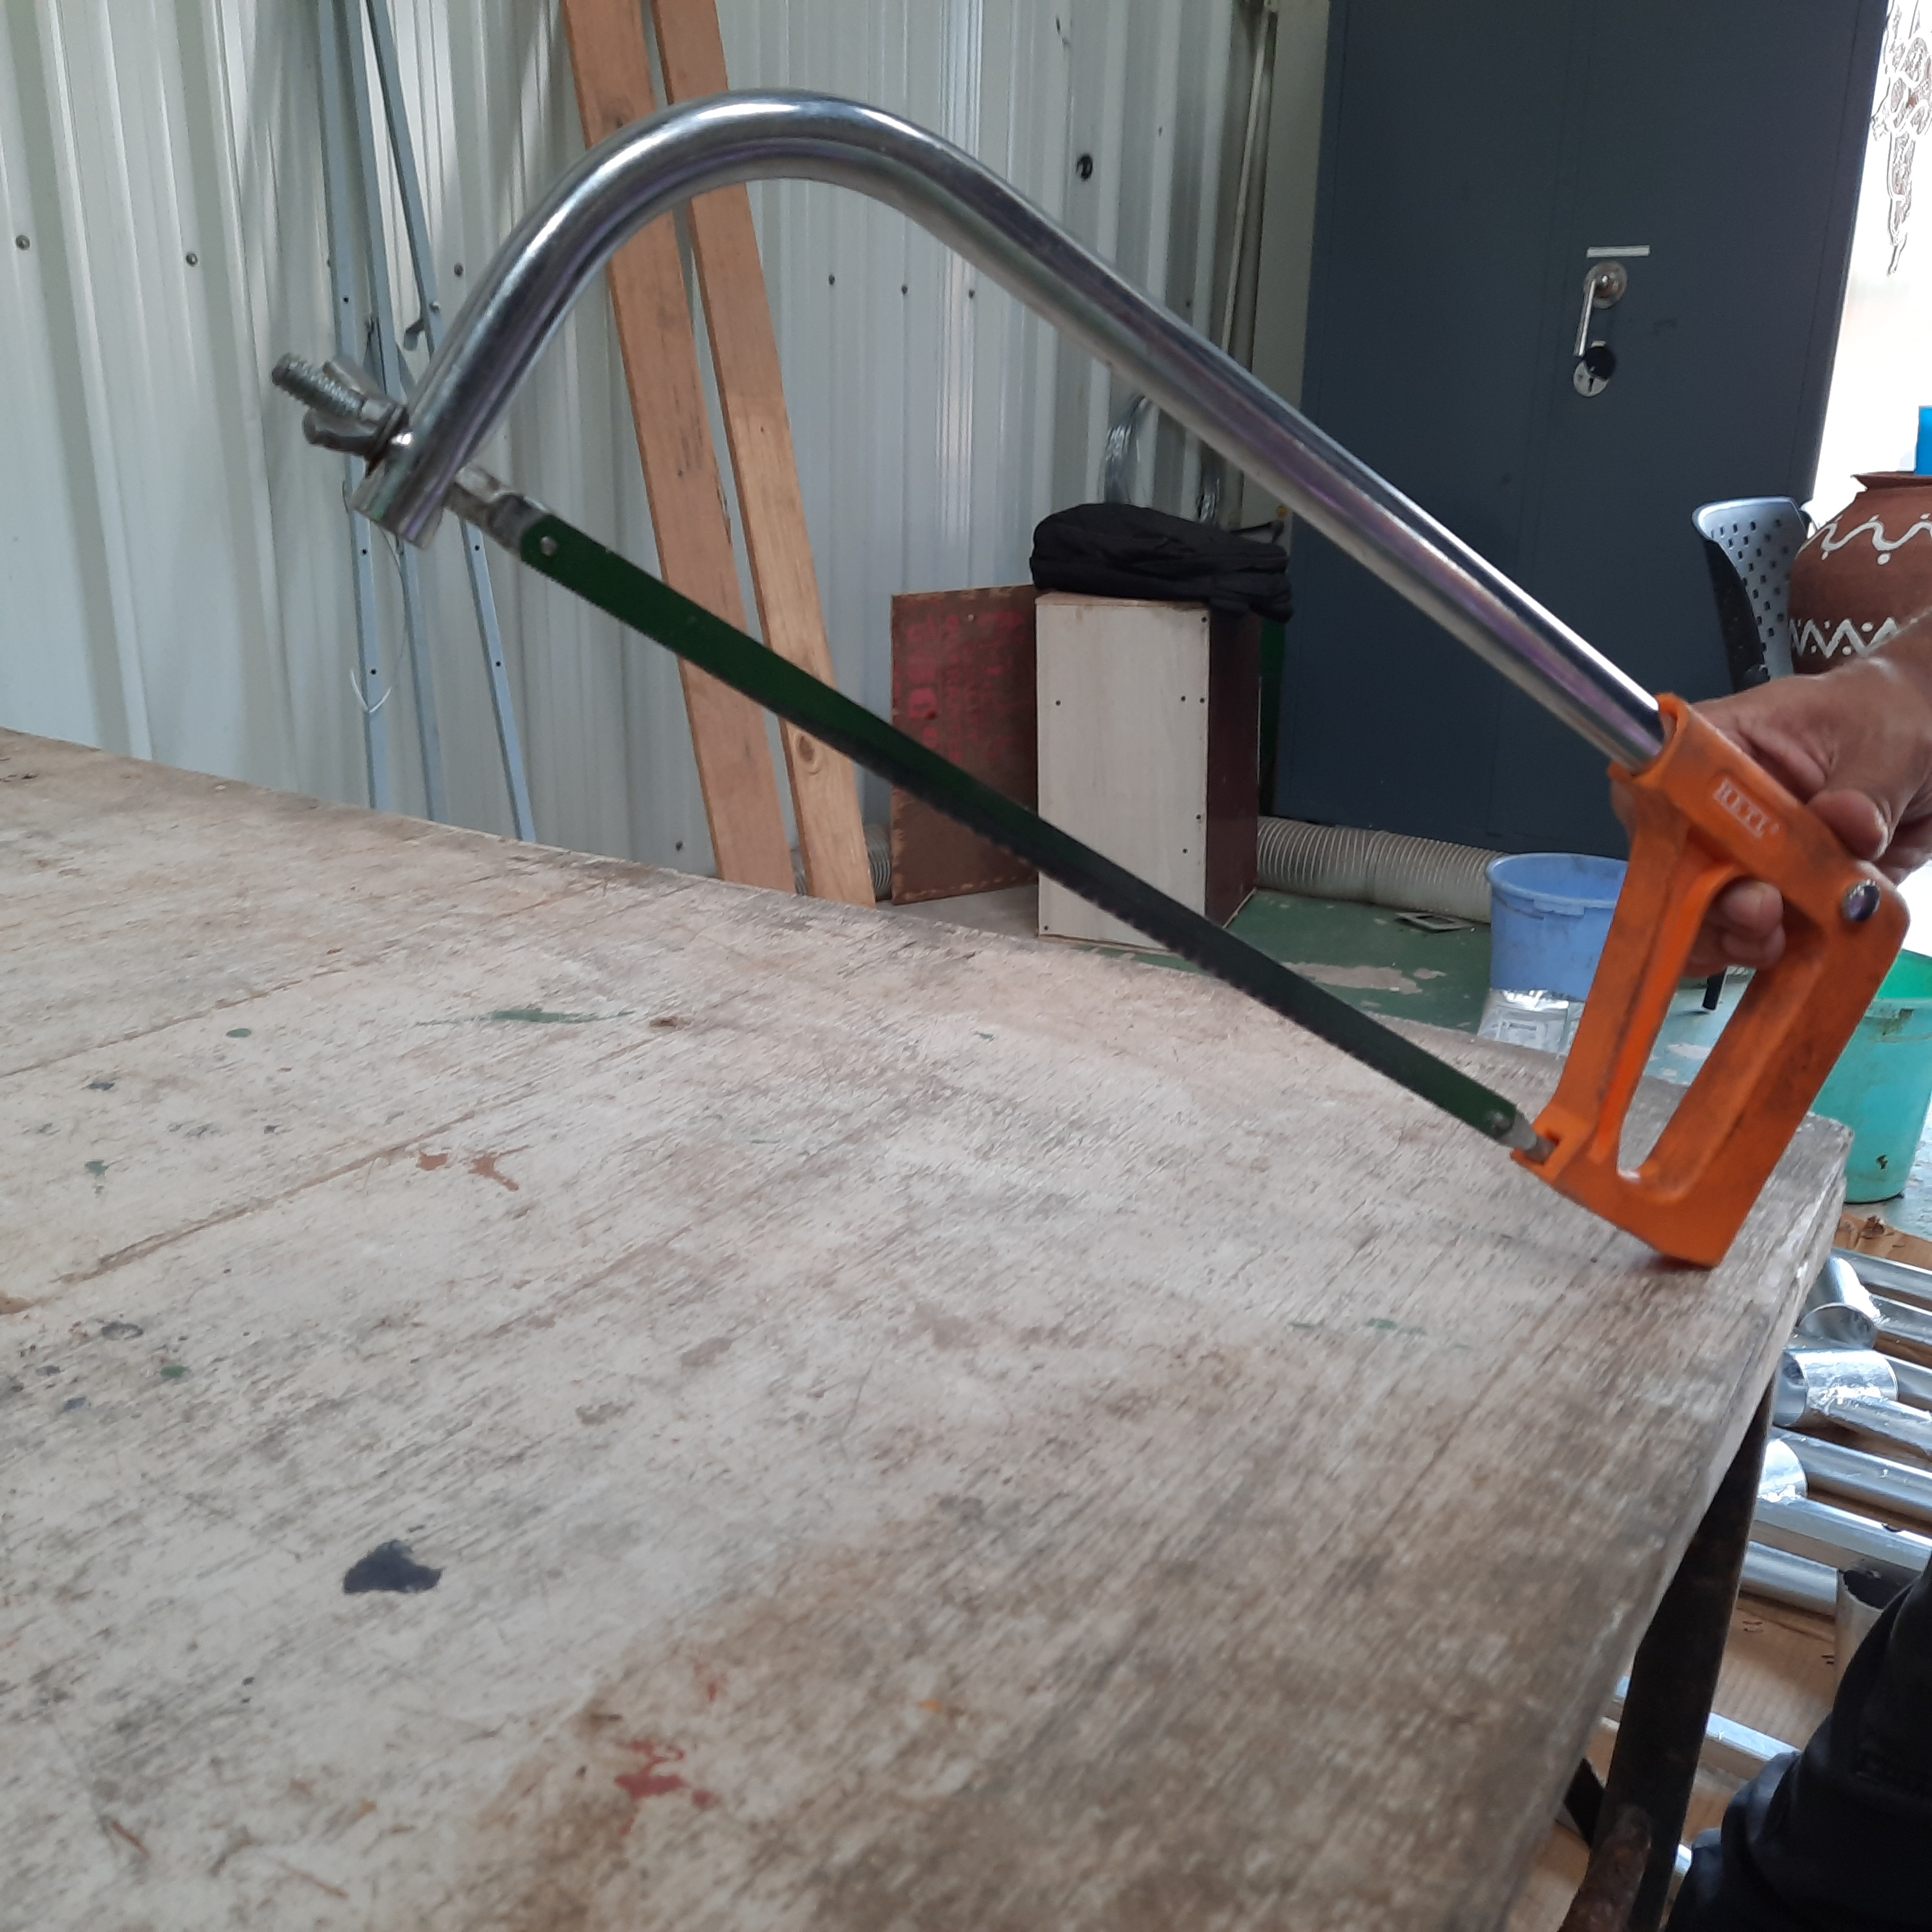Hexaframe: (257, 80, 1916, 1320)
